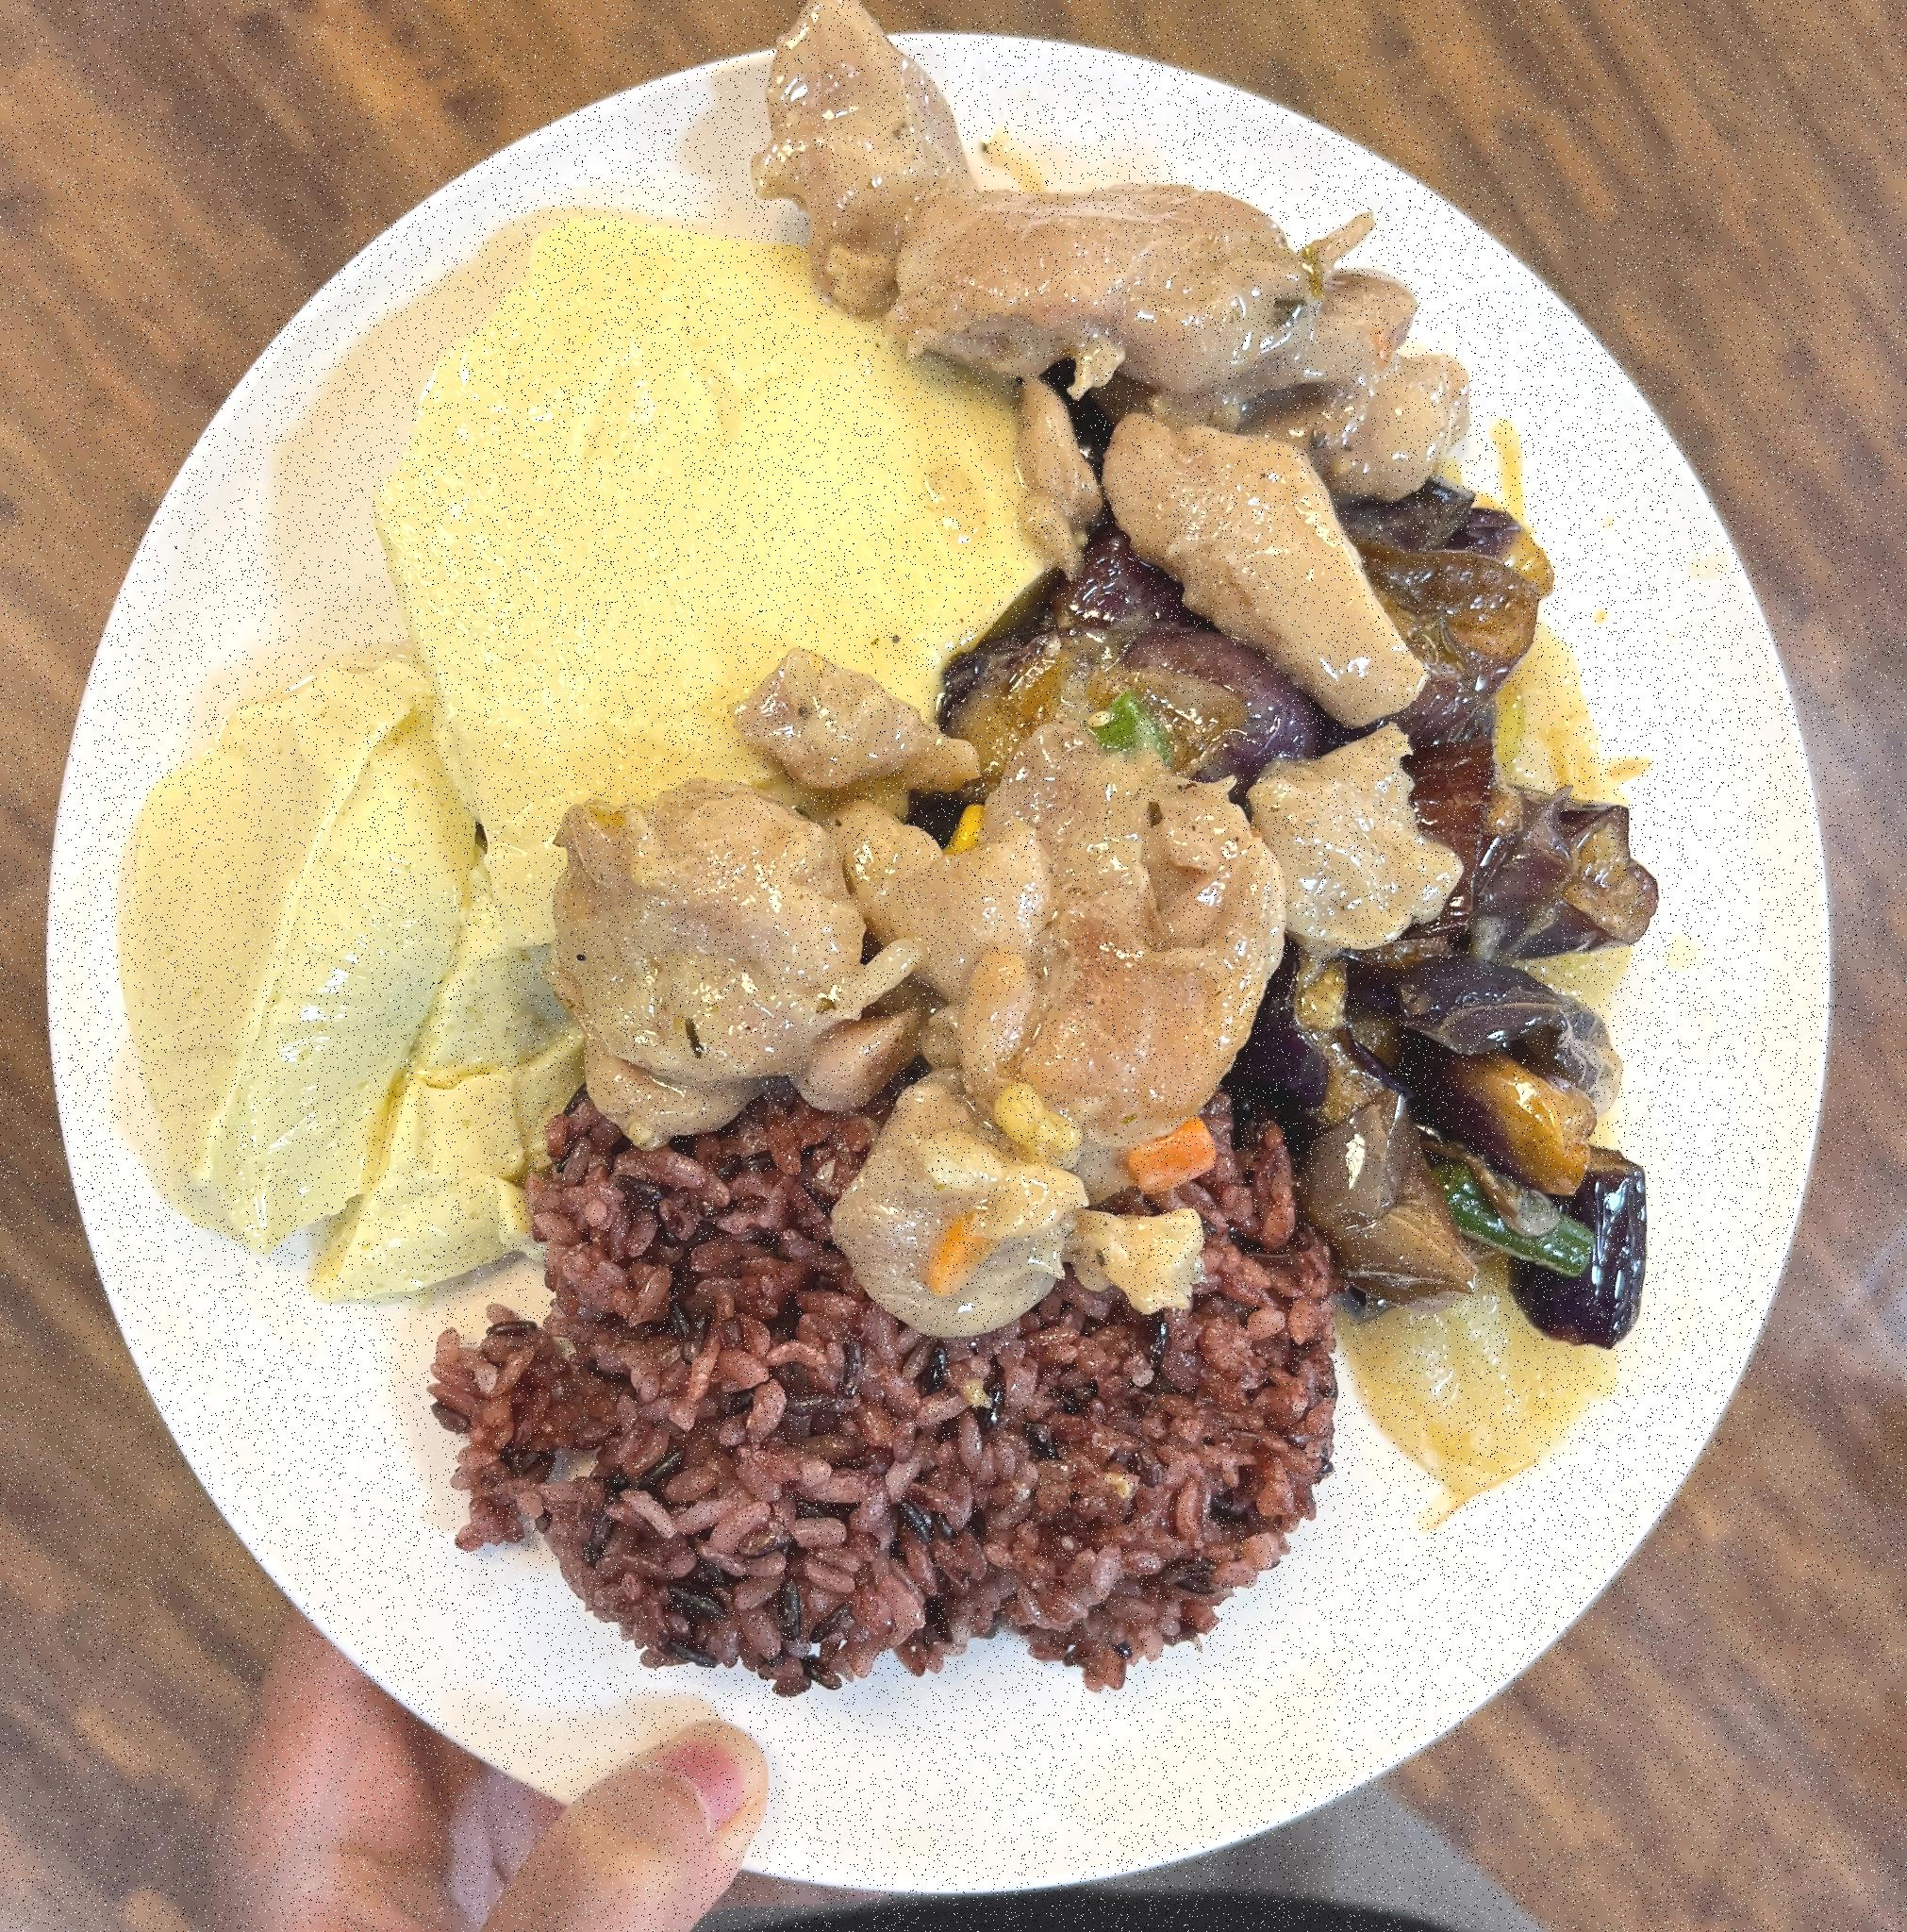plate: (40, 40, 1860, 1932)
purple rice: (424, 1053, 1355, 1715)
side dish: (120, 190, 1062, 1315), (1331, 472, 1666, 1459)
white sauce chicken: (531, 14, 1435, 1294)
